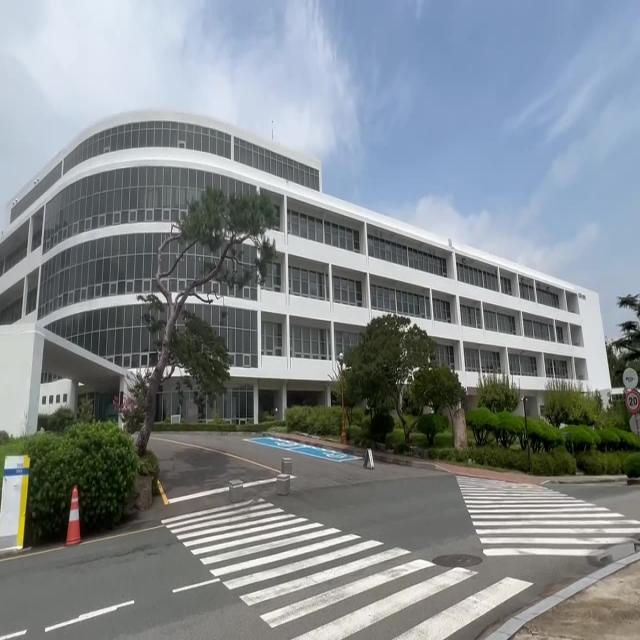building: (26, 128, 597, 356)
